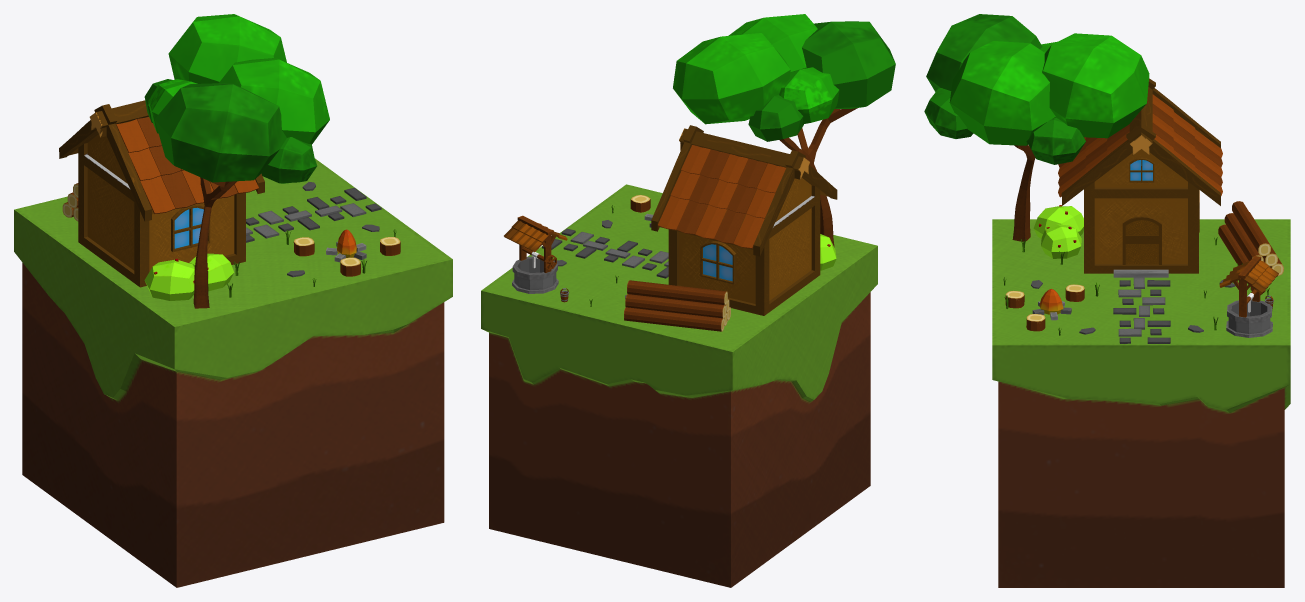
Rendered from Concepts_1.fbx.
The picture shows the model from 3 angles, left to right: view 1: azimuth 30°, elevation 25°; view 2: azimuth 150°, elevation 25°; view 3: azimuth 270°, elevation 25°; orthographic projection. The views are drawn at different scales.
Parts seen in each view (by area): view 1: Cube.038, Cube.036, Cube.024, Cube.042, Cube.031, Cube.032, Cube.041; view 2: Cube.038, Cube.024, Cube.036, Cube.037, Cube.039, Cube.031; view 3: Cube.038, Cube.036, Cube.024, Cube.039, Cube.037, Cube.031, Cube.042, Cube.032, Cube.041.
Boxes of the visible parts, box(x1,y1,x2,y2) form: Cube.038: box(14, 158, 452, 587); Cube.036: box(144, 14, 329, 308); Cube.024: box(59, 100, 264, 287); Cube.042: box(144, 253, 234, 300); Cube.031: box(246, 187, 381, 242); Cube.032: box(326, 229, 366, 262); Cube.041: box(227, 182, 396, 297); Cube.038: box(481, 184, 877, 587); Cube.024: box(651, 125, 837, 315); Cube.036: box(673, 14, 895, 247); Cube.037: box(624, 280, 730, 331); Cube.039: box(504, 215, 567, 293); Cube.031: box(542, 228, 668, 278); Cube.038: box(992, 219, 1290, 587); Cube.036: box(924, 14, 1149, 241); Cube.024: box(1058, 78, 1222, 277); Cube.039: box(1219, 256, 1278, 337); Cube.037: box(1218, 201, 1283, 275); Cube.031: box(1113, 277, 1170, 343); Cube.042: box(1033, 205, 1083, 258); Cube.032: box(1032, 289, 1071, 320); Cube.041: box(1003, 237, 1269, 335).
Size of the model in its own units: 314 by 524 by 370.
